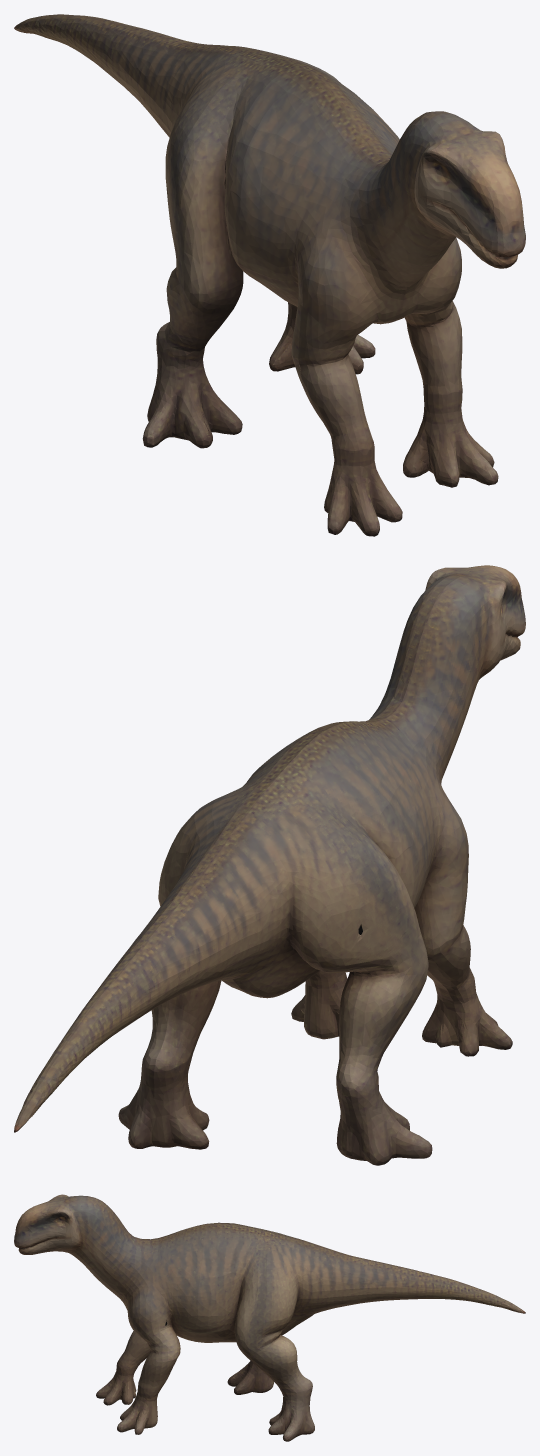
3 renders of one model, top to bottom at view 1: azimuth 30°, elevation 25°; view 2: azimuth 150°, elevation 25°; view 3: azimuth 270°, elevation 25°, orthographic. The views are drawn at different scales.
Visible parts, largest first — view 1: world; view 2: world; view 3: world.
Boxes of the visible parts, left/top/right/bottom form: world: left=14, top=14, right=525, bottom=536; world: left=14, top=565, right=525, bottom=1165; world: left=14, top=1194, right=525, bottom=1441.
Bounding box in the file's own units: 0.3111 × 0.462 × 0.9951.
Materials: 1 (1 with a texture image).
